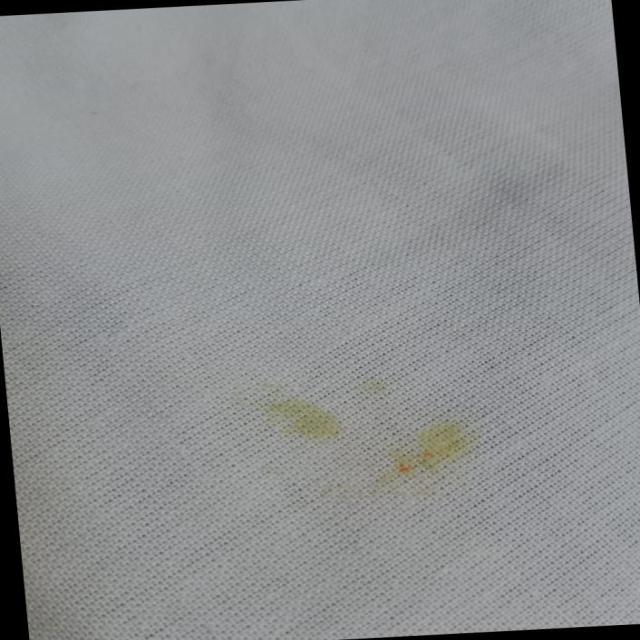stain: (243, 372, 501, 498)
